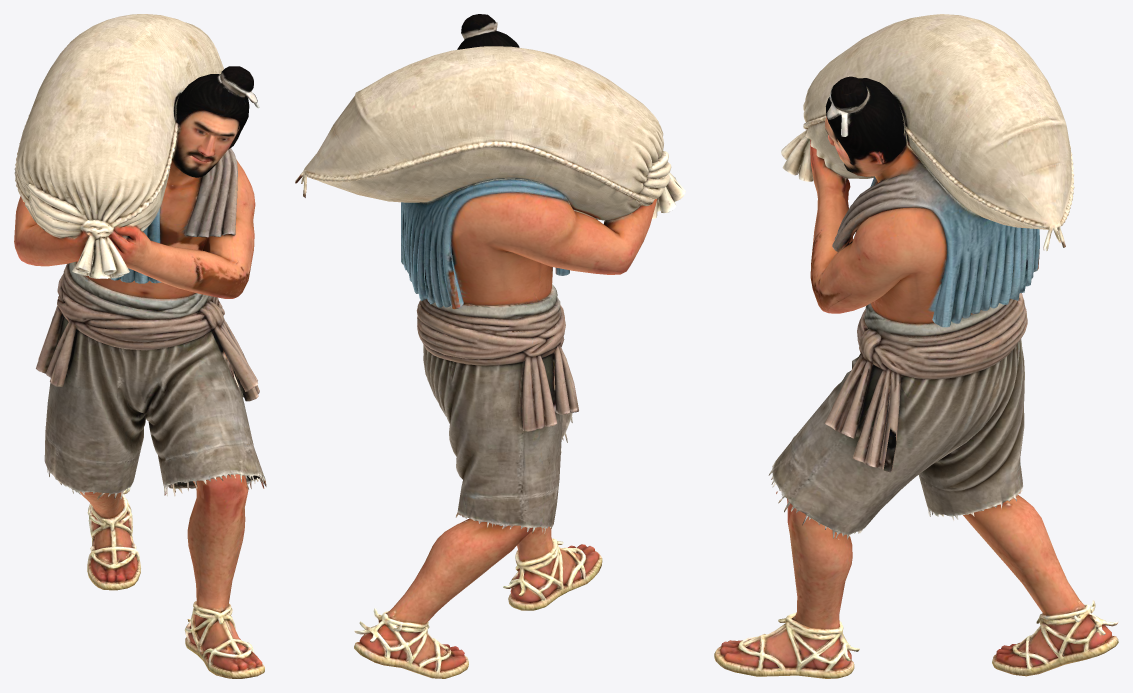
File: p_porter.glb
3 views of the same model, side by side, from view 1: azimuth 30°, elevation 25°; view 2: azimuth 150°, elevation 25°; view 3: azimuth 270°, elevation 25° (orthographic). The views are drawn at different scales.
Parts seen in each view (by area): view 1: p_porter; view 2: p_porter; view 3: p_porter.
Boxes of the visible parts, x1,y1,x2,y2 form: p_porter: [14, 14, 266, 678]; p_porter: [295, 14, 685, 678]; p_porter: [714, 14, 1118, 678].
Bounding box in the file's own units: 0.8349 × 1.7 × 0.9863.
Materials: 1 (1 with a texture image).
